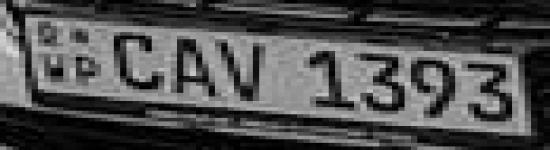1: (300, 46, 360, 112)
3: (462, 53, 523, 128), (354, 50, 406, 119)
9: (404, 54, 455, 123)
A: (162, 36, 223, 104)
C: (109, 27, 168, 96)
P: (72, 50, 104, 90)
V: (212, 42, 278, 108)
W: (33, 47, 72, 92)
